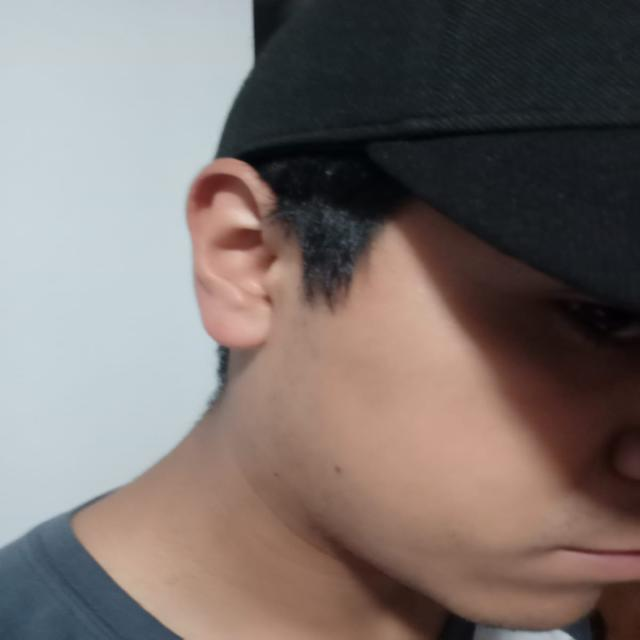ear: (187, 159, 288, 350)
